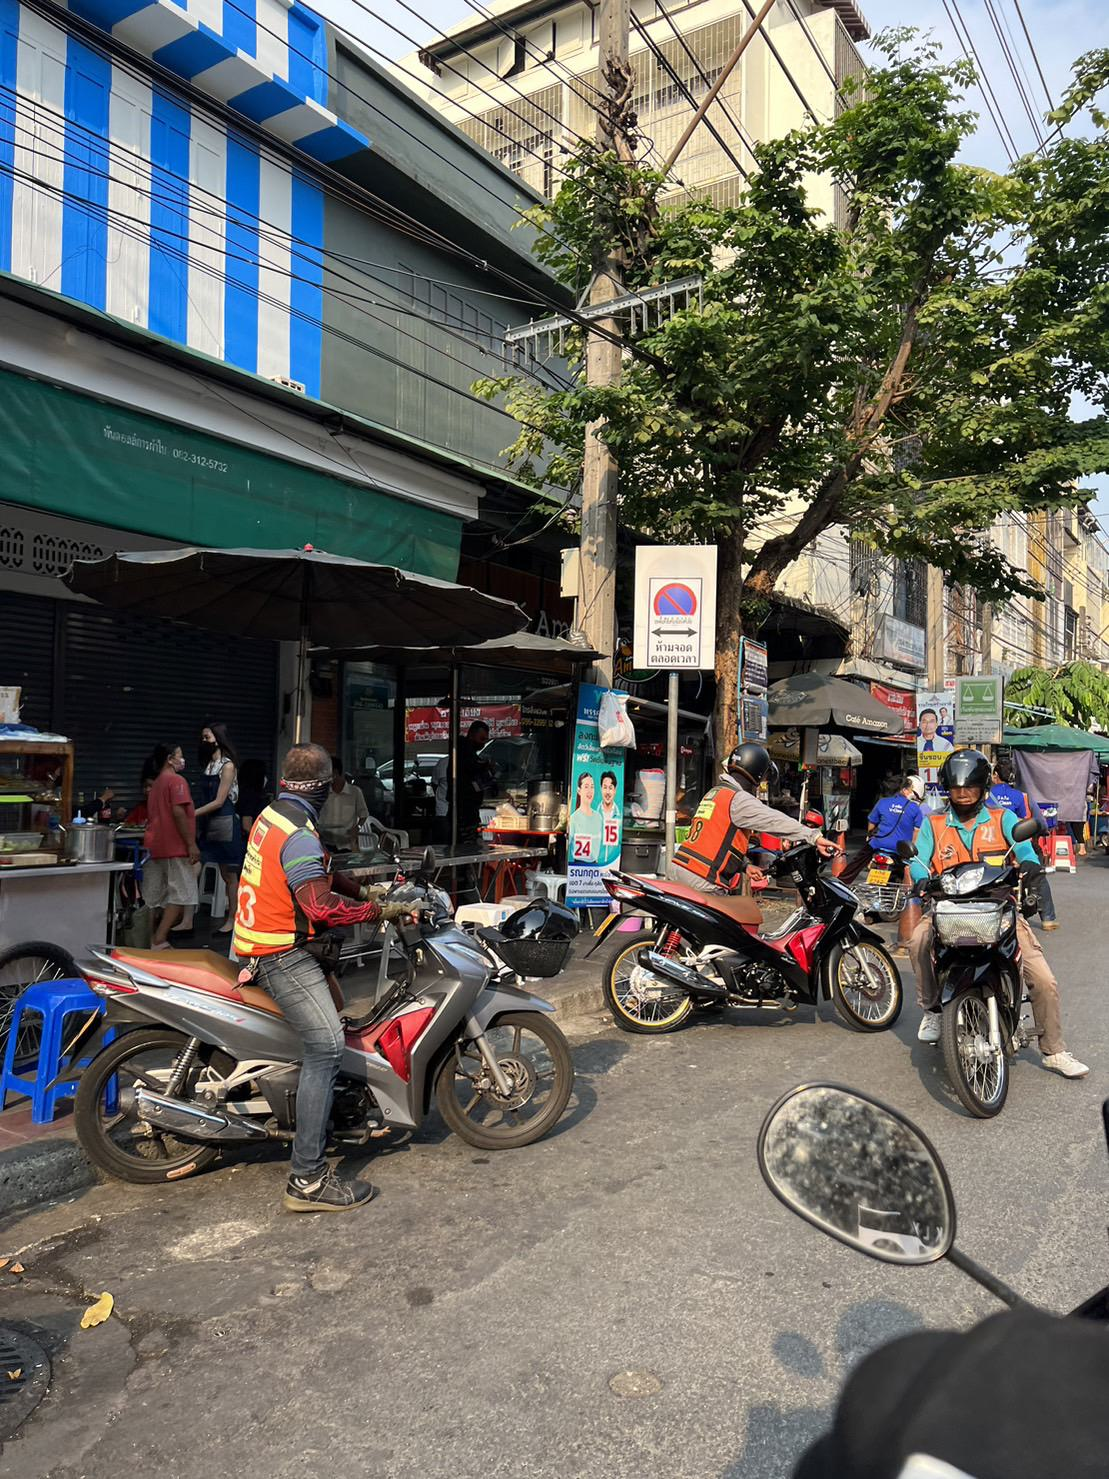Banner: (568, 675, 621, 910)
